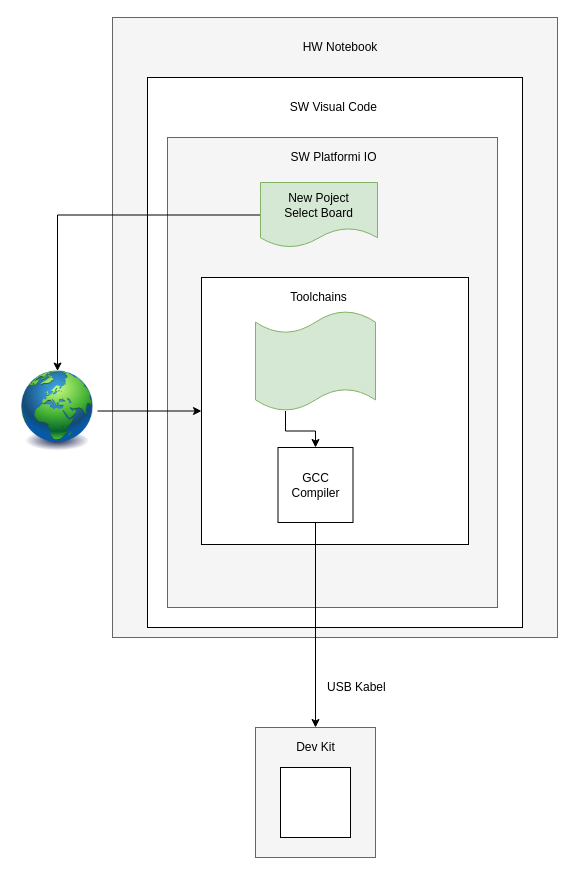
Some shapes in this 575 by 875 pixel diagram are drawn without their labels. Each missing label, with the box of its shape:
Code: (254, 310, 376, 411)
ESP32: (280, 766, 350, 838)
